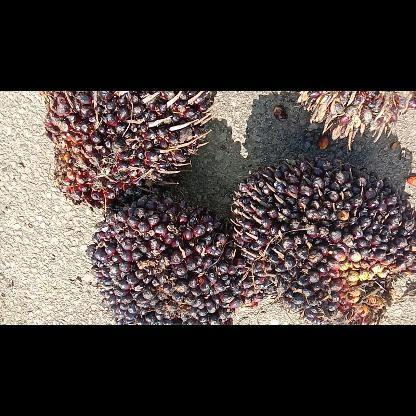TBS mentah: (230, 154, 414, 324), (88, 194, 274, 324), (39, 91, 216, 211), (290, 90, 414, 150)
